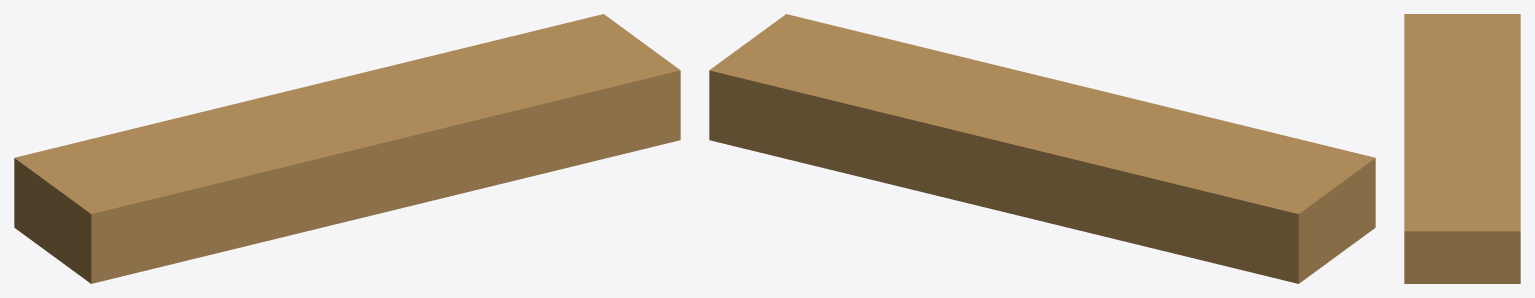
3 renders of one model, left to right at view 1: azimuth 30°, elevation 25°; view 2: azimuth 150°, elevation 25°; view 3: azimuth 270°, elevation 25°, orthographic. The views are drawn at different scales.
Visible parts, largest first — view 1: RUN-006-S00-NOG-15; view 2: RUN-006-S00-NOG-15; view 3: RUN-006-S00-NOG-15.
Part boxes in pixels (x1,y1,x2,y2): RUN-006-S00-NOG-15: [14, 14, 680, 283]; RUN-006-S00-NOG-15: [709, 14, 1375, 283]; RUN-006-S00-NOG-15: [1404, 14, 1520, 283].
Bounding box in the file's own units: 0.3977 × 0.045 × 0.09.
